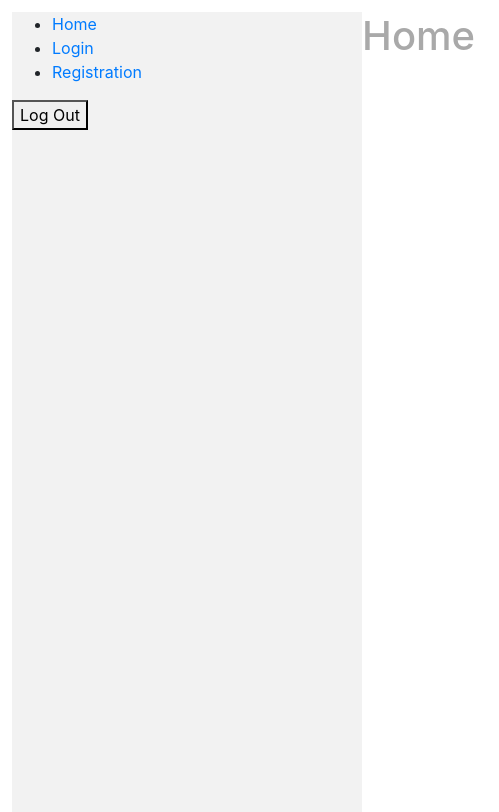
Scenario: Menu › Login page › Login page
Click the link with test id "Login" at (73, 48), box [52,38,94,58]
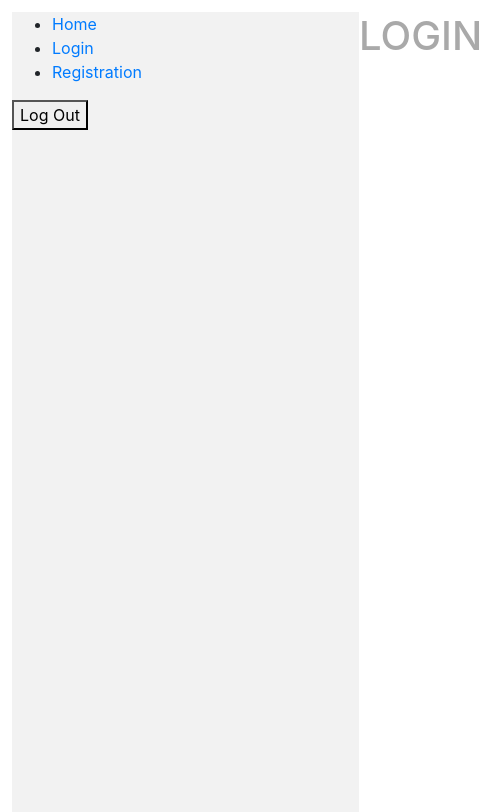
Now the heading with test id "login-page" reads "LOGIN", box [359,11,482,60]
